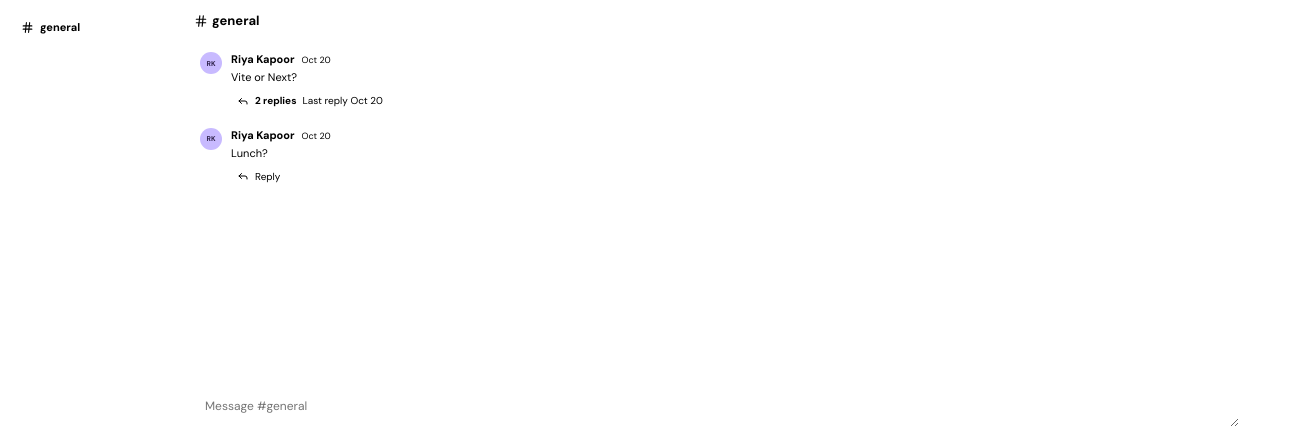
it: ChatPanel threads (US-17) › live replies update the count in the channel and appear in the open thread once
What coordinates should you click on to do the following:
click the button with aria-label "2 replies, open thread"
I would click on:
 (311, 100)
Its box is [231,90,391,111].
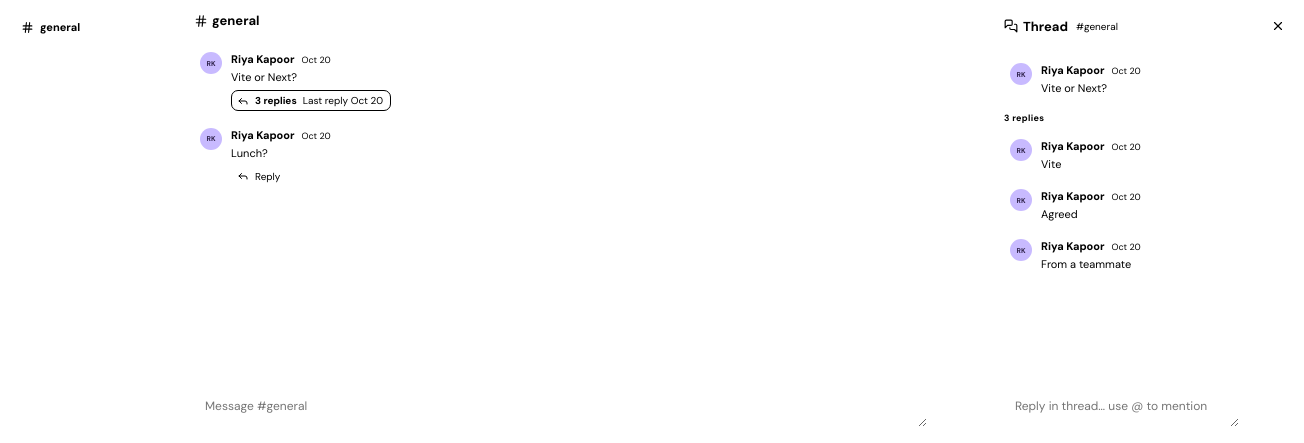
Now the text "Agreed" is shown, box [1041,207,1078,221]
Now the text "From a teammate" is shown once, box [1041,257,1131,271]
Now the 1st text "3 replies" is shown, box [255,94,297,107]
